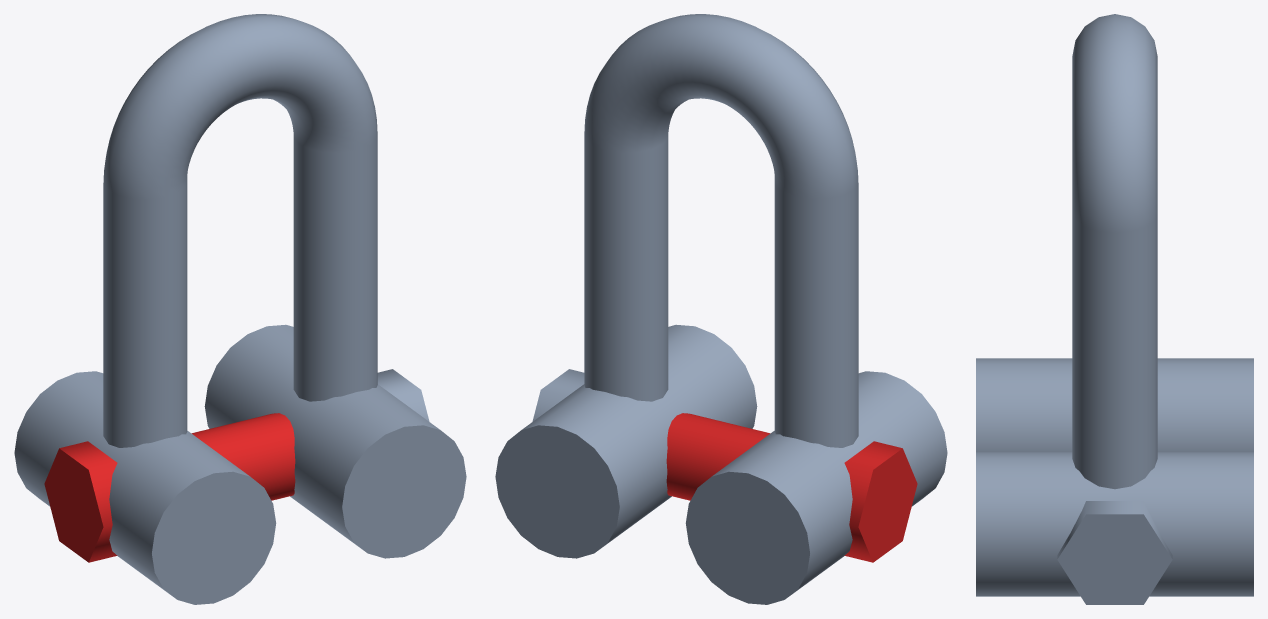
Rendered from crosby_shackle.glb.
The picture shows the model from 3 angles, left to right: view 1: azimuth 30°, elevation 25°; view 2: azimuth 150°, elevation 25°; view 3: azimuth 270°, elevation 25°; orthographic projection.
Visible parts, largest first — view 1: Crosby_G2130_Shackle_17T; view 2: Crosby_G2130_Shackle_17T; view 3: Crosby_G2130_Shackle_17T.
Part boxes in pixels (<box>): Crosby_G2130_Shackle_17T: <box>14,14,466,604</box>; Crosby_G2130_Shackle_17T: <box>495,14,947,604</box>; Crosby_G2130_Shackle_17T: <box>976,14,1253,604</box>.
Bounding box in the file's own units: 0.182 × 0.266 × 0.13.
